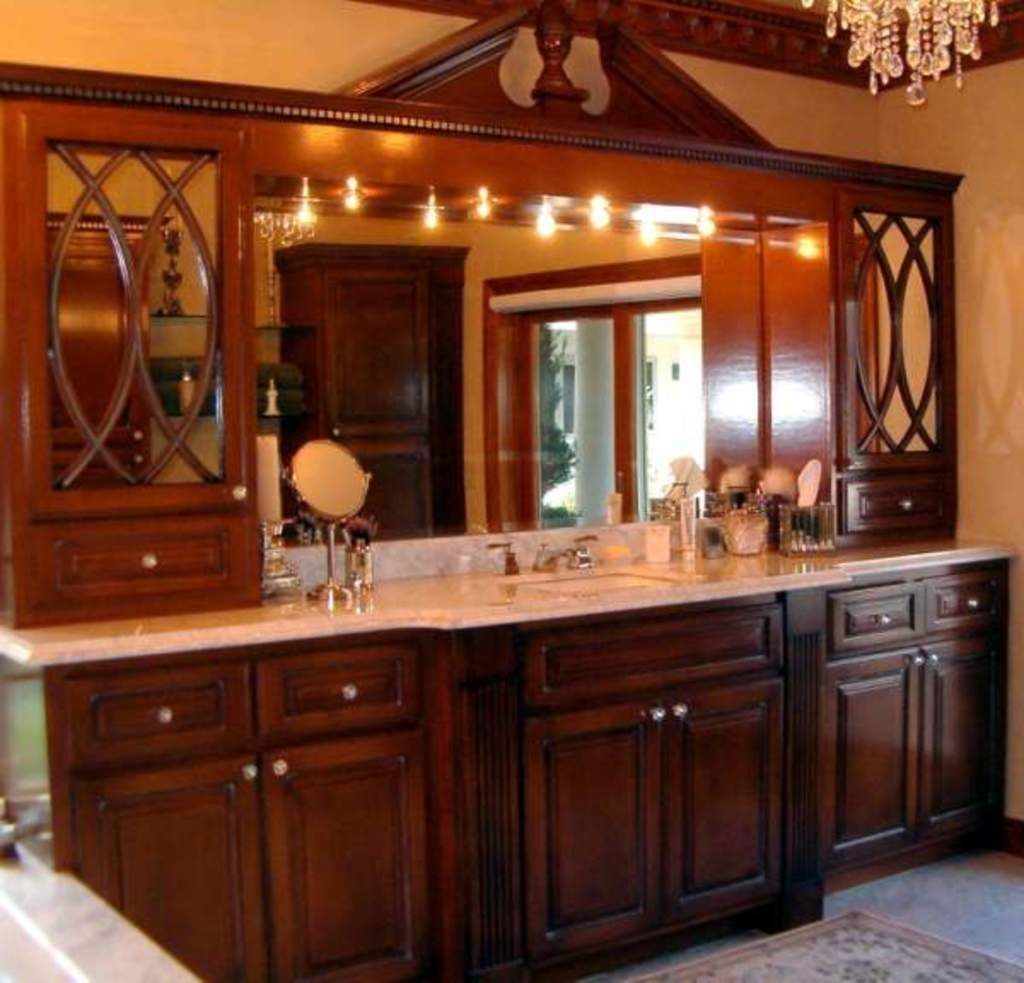cabinet door: (26, 120, 246, 502), (109, 771, 260, 968), (262, 756, 418, 945), (542, 709, 660, 948), (850, 194, 945, 451), (670, 689, 770, 917), (838, 650, 926, 848), (39, 512, 236, 599), (254, 658, 424, 726), (929, 629, 990, 815), (90, 687, 255, 754), (857, 475, 934, 526), (834, 590, 919, 632), (930, 571, 1004, 617)
handle: (638, 694, 670, 730), (138, 550, 168, 579), (264, 754, 290, 786), (146, 702, 175, 730), (907, 642, 930, 674), (671, 698, 694, 729), (338, 680, 360, 707), (242, 758, 262, 786), (226, 478, 246, 505), (875, 605, 894, 631), (962, 590, 980, 614), (925, 647, 943, 668), (899, 493, 915, 516)
